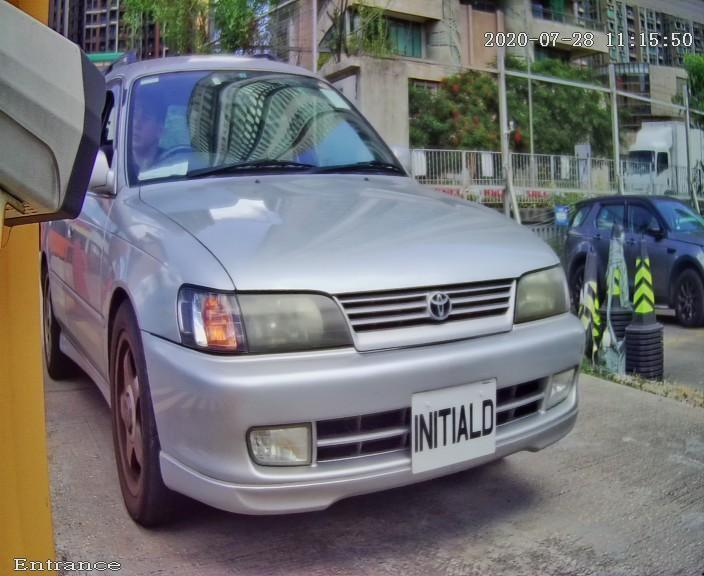privatecar: (23, 16, 661, 543)
